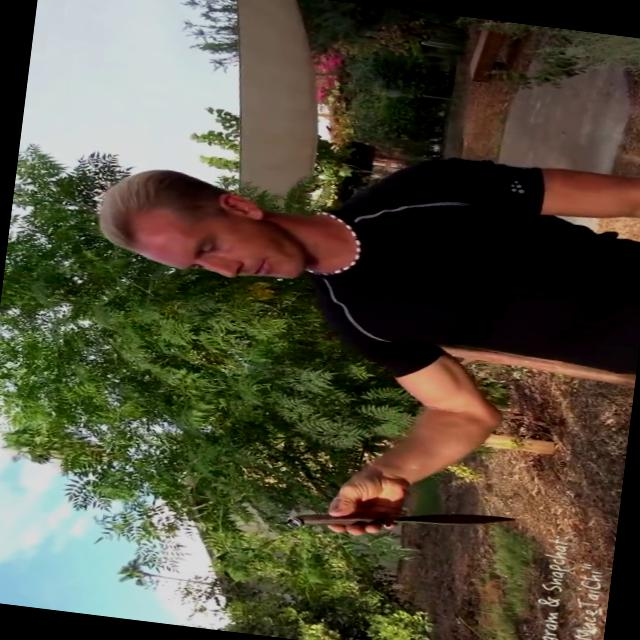knife: (286, 480, 517, 554)
